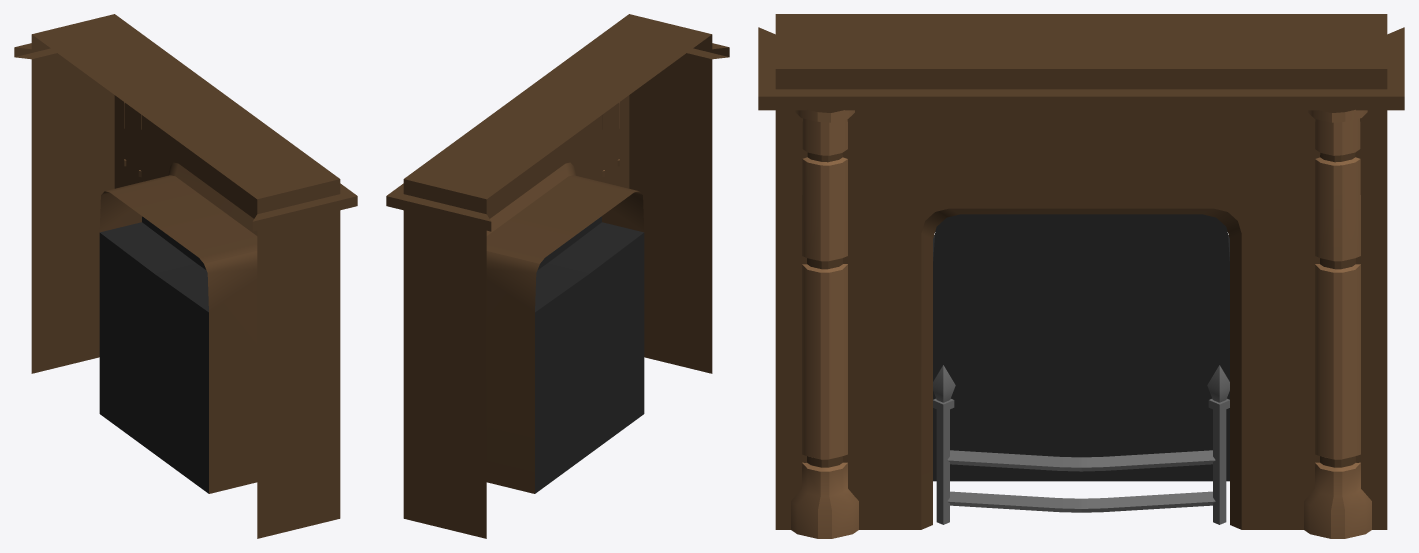
The model's file is fireplace.glb.
3 renders of one model, left to right at view 1: azimuth 30°, elevation 25°; view 2: azimuth 150°, elevation 25°; view 3: azimuth 270°, elevation 25°, orthographic. The views are drawn at different scales.
Parts seen in each view (by area): view 1: node-0; view 2: node-0; view 3: node-0.
Part boxes in pixels (x1=…): node-0: x1=14, y1=14, x2=357, y2=538; node-0: x1=386, y1=14, x2=729, y2=538; node-0: x1=758, y1=14, x2=1404, y2=538.
Size of the model in its own units: 0.9936 by 2.94 by 3.72.
